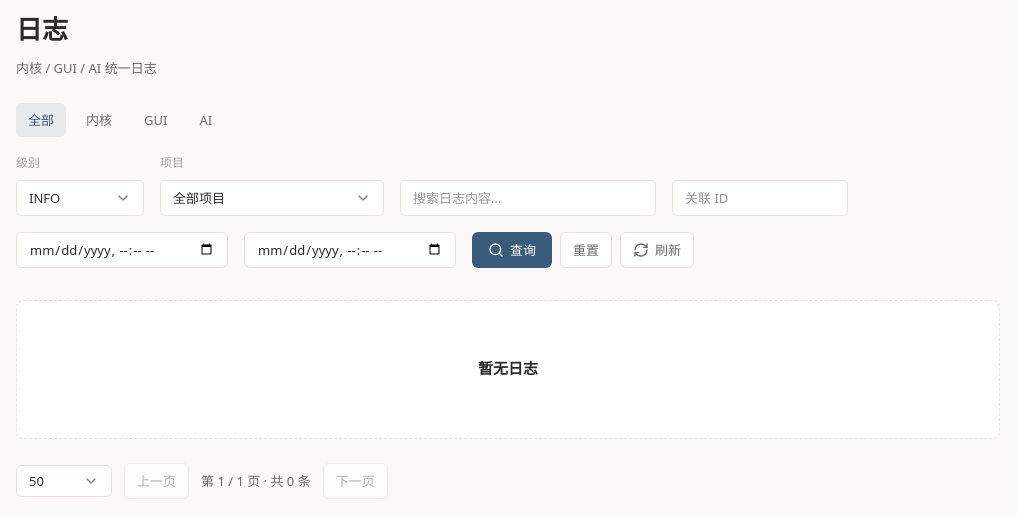
Test: 日志页 — 项目选择（§6.2） › 【R】选中项目（UUID u-1）→ 立即重查 + project_id:u-1（其余默认不变）
Step 1. Click the dropdown with test id "log-project-select" → (272, 198), box [160,180,384,216]
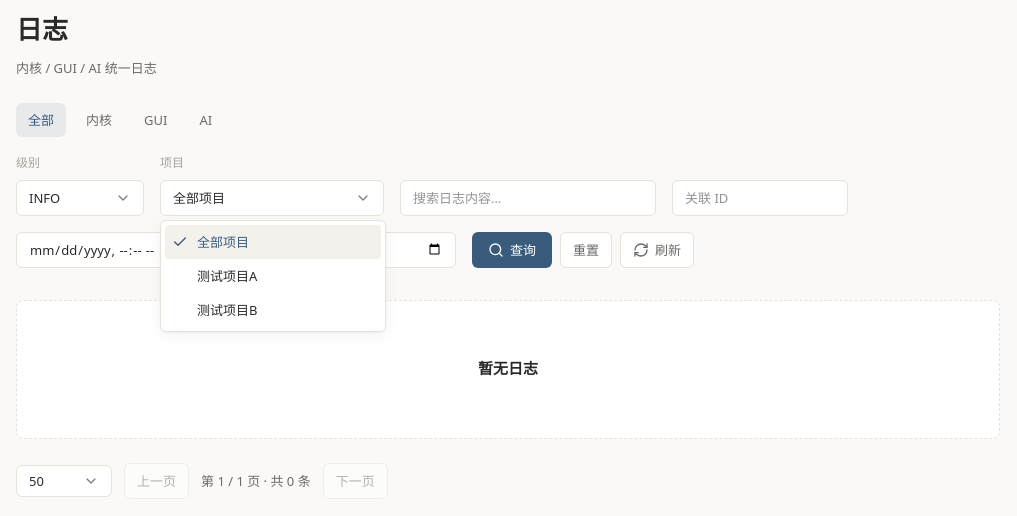
Step 2. Click the option "测试项目A" → (227, 276), box [197,267,257,285]
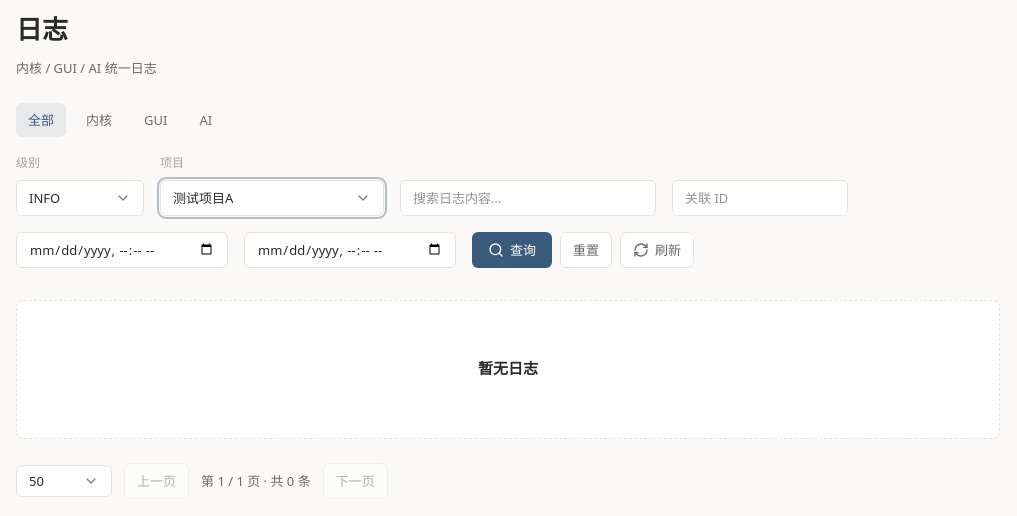
Check: the dropdown with test id "log-project-select" reads "测试项目A", box [160,180,384,216]
